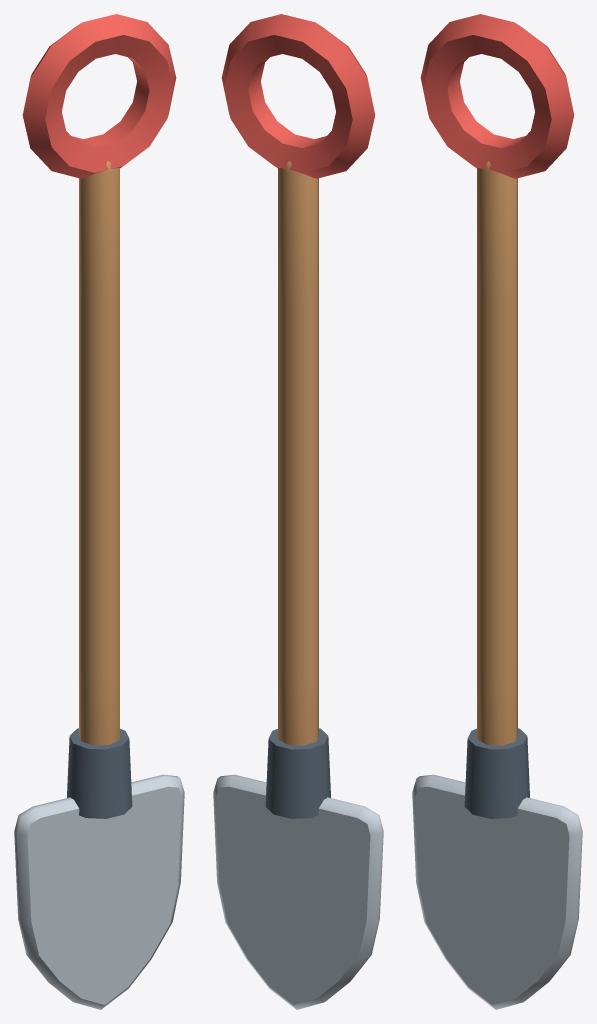
Rendered from item_shovel.glb.
3 views of the same model, side by side, from view 1: azimuth 30°, elevation 25°; view 2: azimuth 150°, elevation 25°; view 3: azimuth 330°, elevation 25° (orthographic).
Visible parts, largest first — view 1: item_shovel; view 2: item_shovel; view 3: item_shovel.
Boxes of the visible parts, box(x1,y1,x2,y2) form: item_shovel: box(14, 14, 184, 1009); item_shovel: box(213, 14, 383, 1009); item_shovel: box(412, 14, 582, 1009).
Size of the model in its own units: 0.1286 by 0.7269 by 0.0418.
